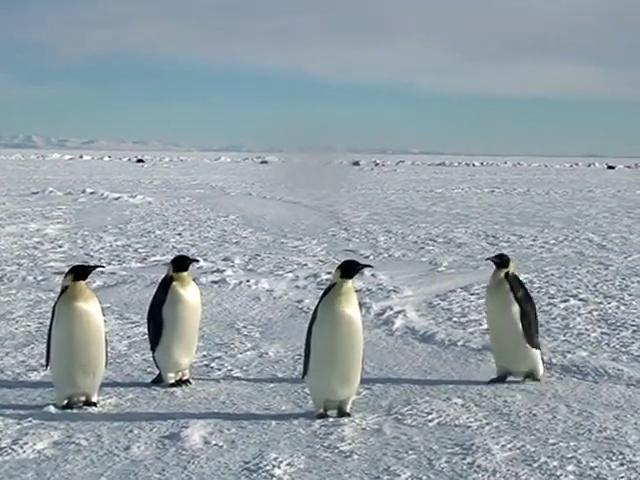animal: (304, 261, 374, 419)
